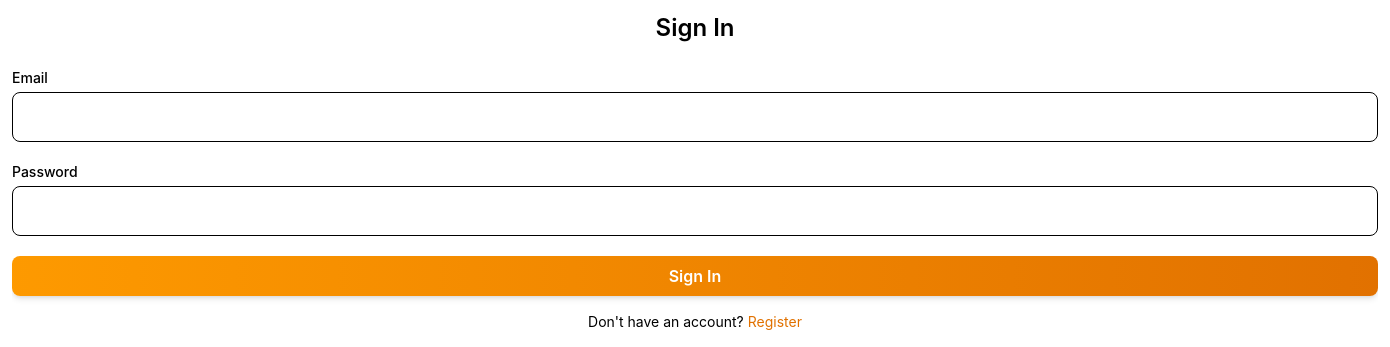
Test: Login › Login flow › button shows loading state during login
Type "test@example.com" into the field labelled "Email" at [695, 117], box 12,92 -> 1378,142
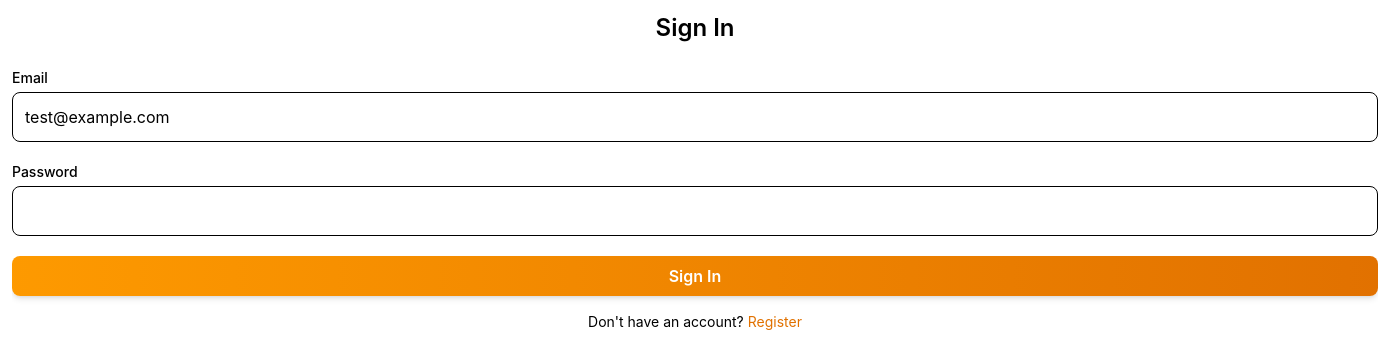
Type "password123" into the password field labelled "Password" at [695, 211], box 12,186 -> 1378,236
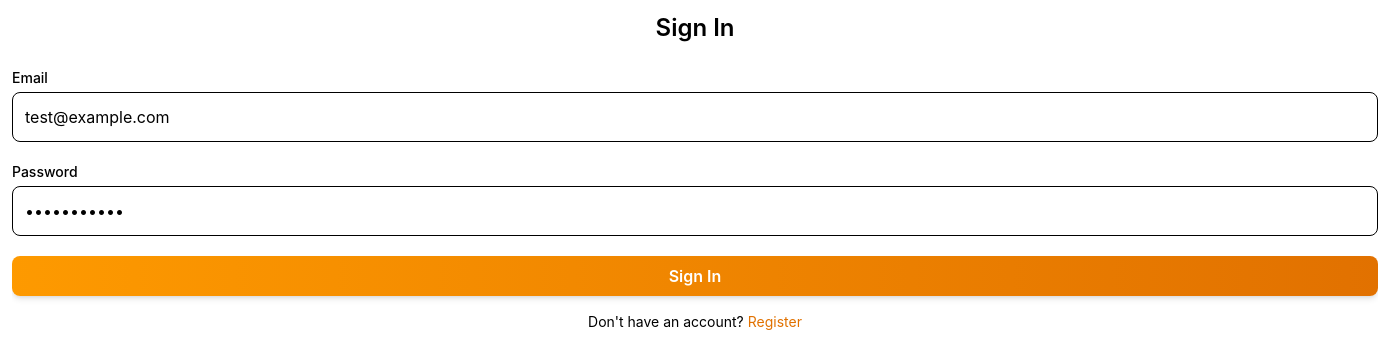
Click the button "Sign In" at [695, 276], box 12,256 -> 1378,296
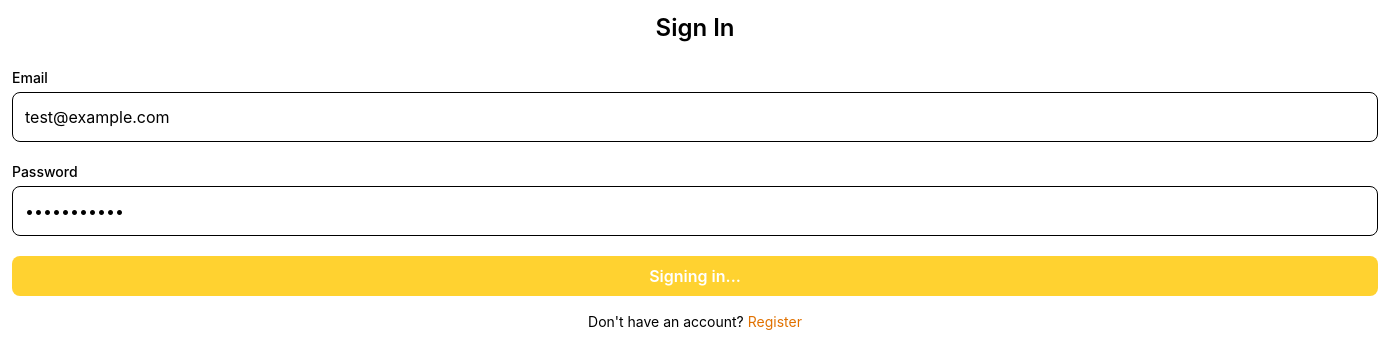
Now the button "Signing in..." is disabled, box 12,256 -> 1378,296
